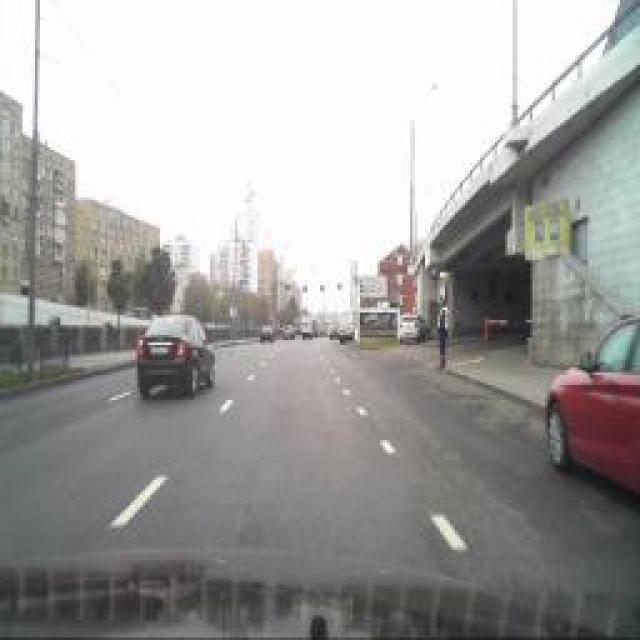sign: (439, 272, 449, 306)
